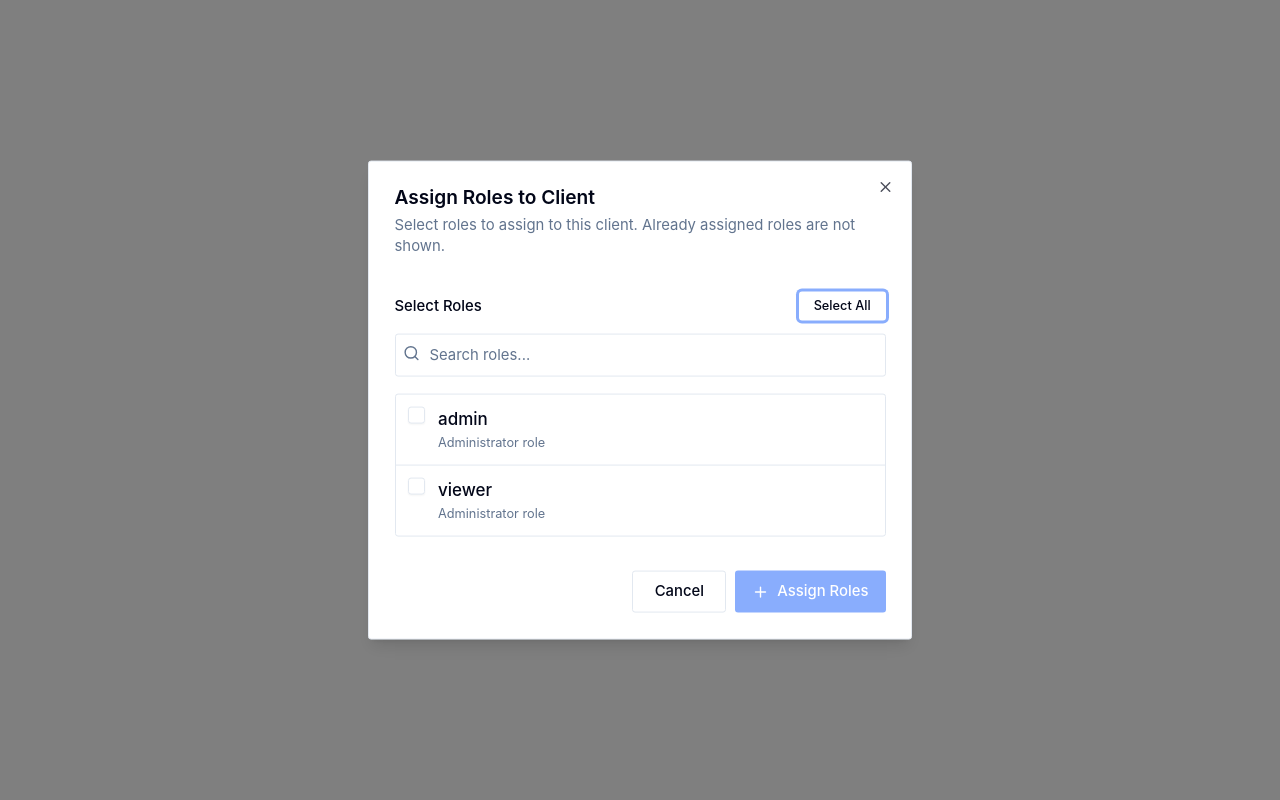
it: AssignClientRolesDialog › toggles select-all and deselect-all
This screenshot has width=1280, height=800.
Click the button "Select All" at (842, 306), box [799,291,886,321]
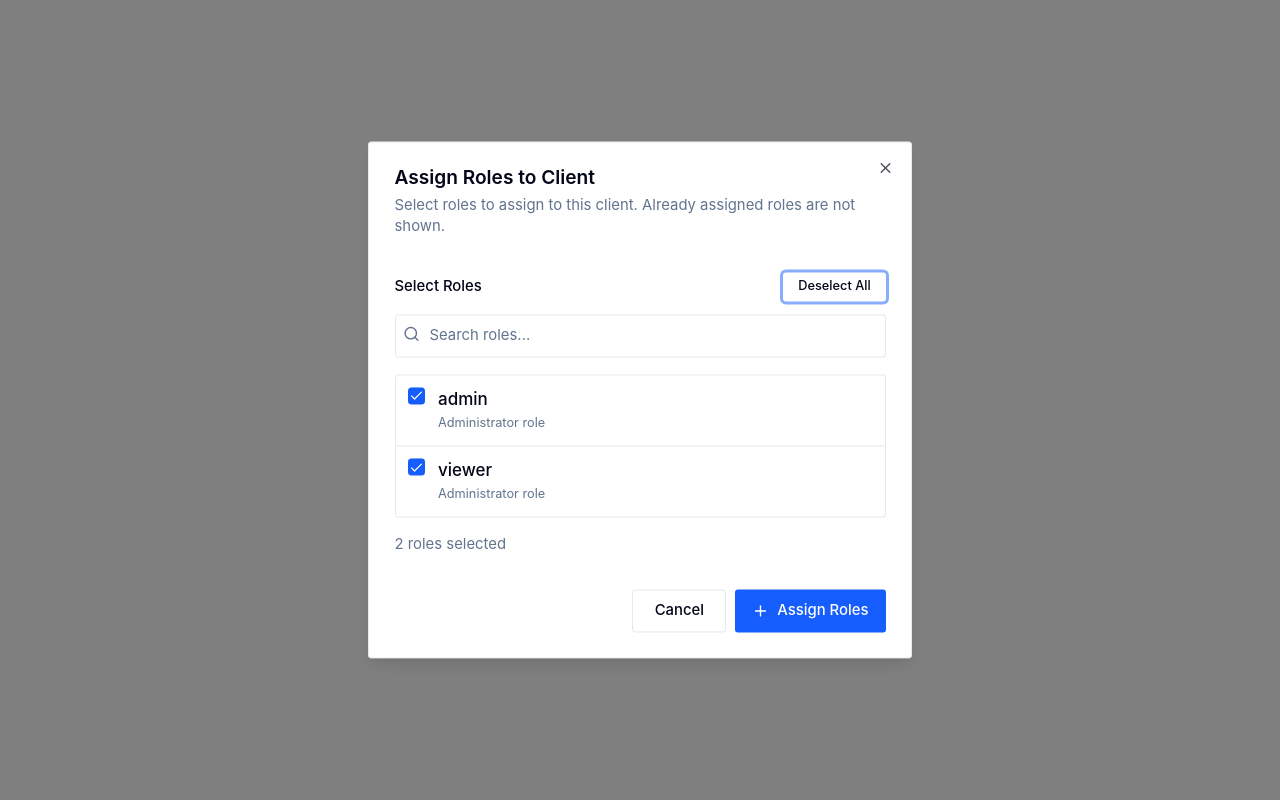
Result: the text "2 roles selected" is shown at [394,535,506,553]
Click the button "Deselect All" at (834, 287), box [783,272,886,302]
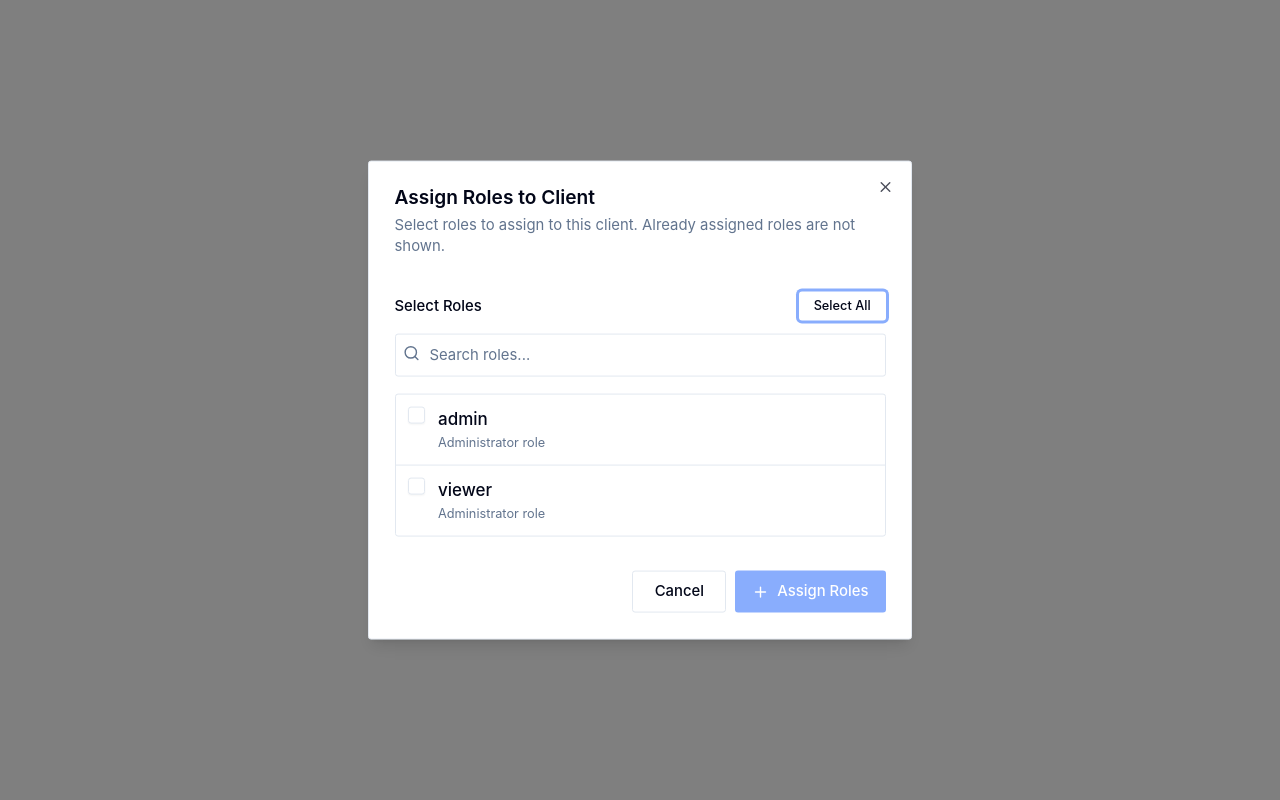
Result: the text "2 roles selected" is gone
